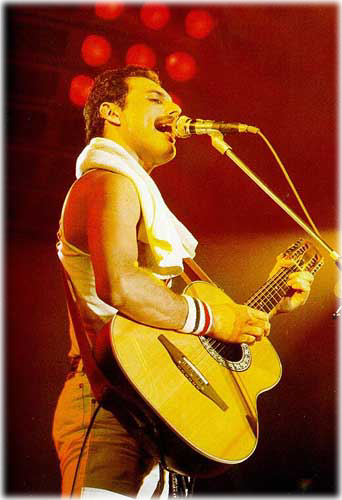guitar: (98, 238, 324, 478)
